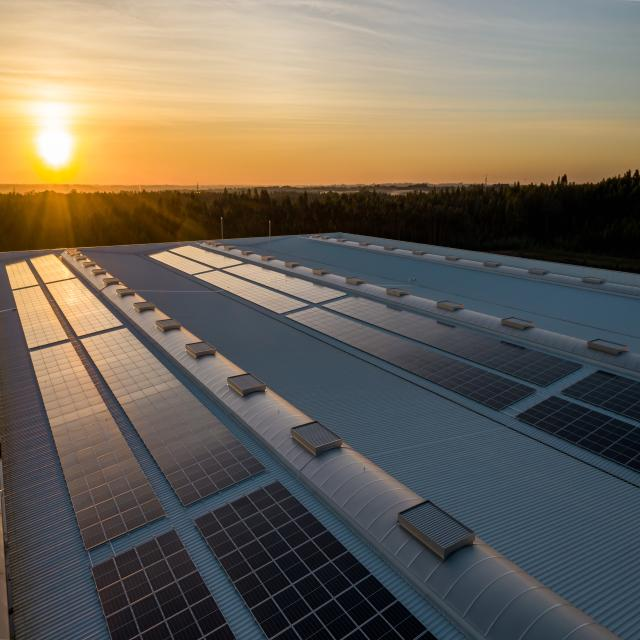clean-solar-panel: (0, 251, 435, 639)
